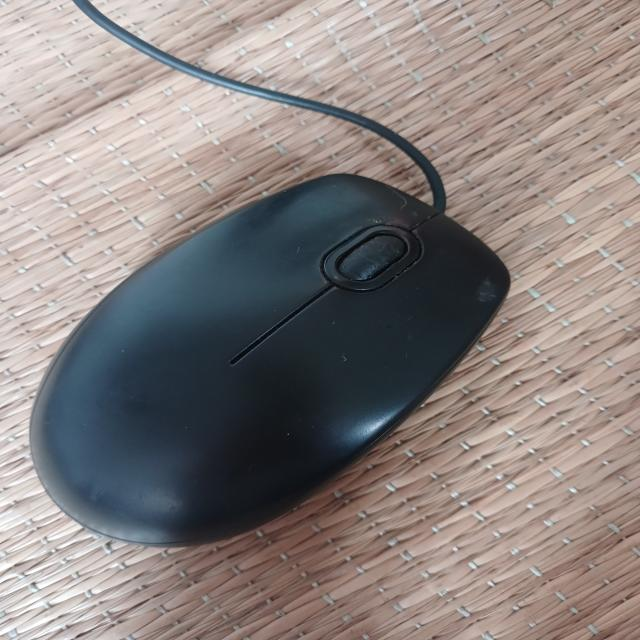mouse: (17, 166, 533, 544)
